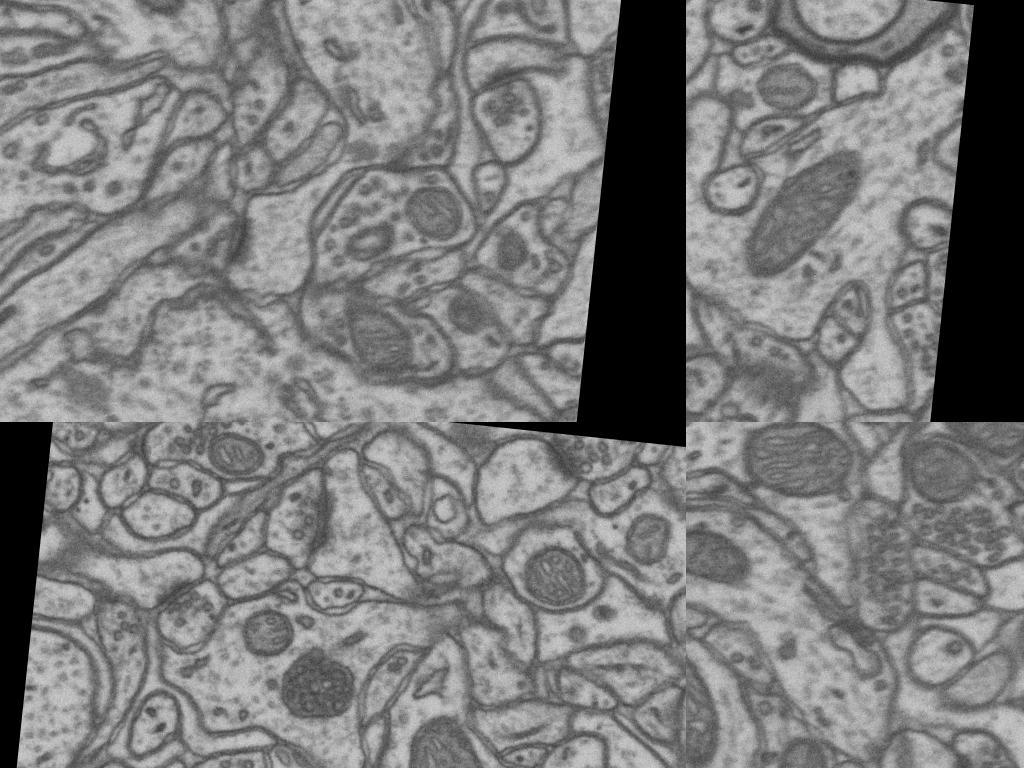mitochondria: (712, 168, 838, 316), (730, 422, 862, 506), (330, 291, 430, 391), (500, 513, 593, 607), (686, 611, 737, 768), (894, 427, 988, 512), (218, 586, 302, 669), (600, 502, 678, 590), (400, 170, 480, 248), (752, 46, 834, 120), (204, 422, 296, 485), (135, 423, 209, 498), (686, 514, 758, 591), (396, 721, 505, 768), (925, 422, 1024, 468), (755, 352, 820, 422), (92, 0, 209, 32), (770, 726, 842, 768), (655, 705, 686, 768)
